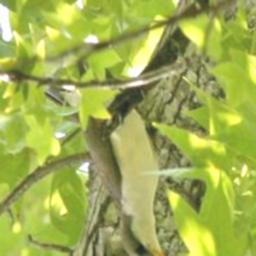Cuckoo: (42, 59, 178, 256)
